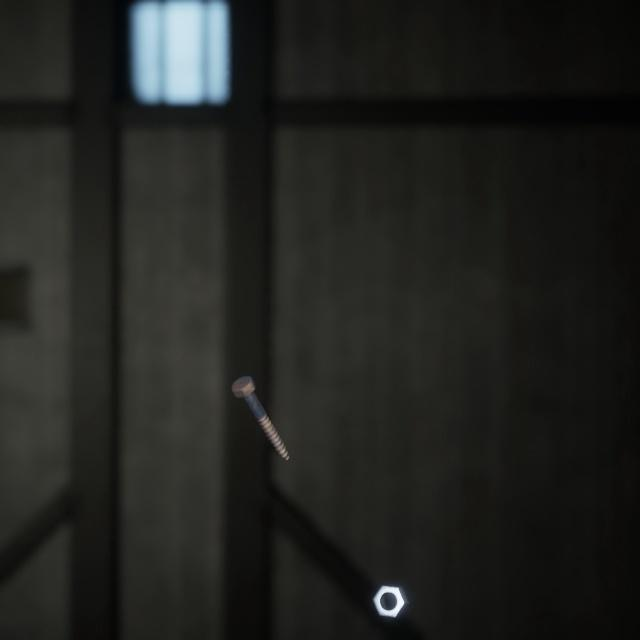bolt: (227, 351, 293, 445)
nut: (368, 558, 413, 599)
